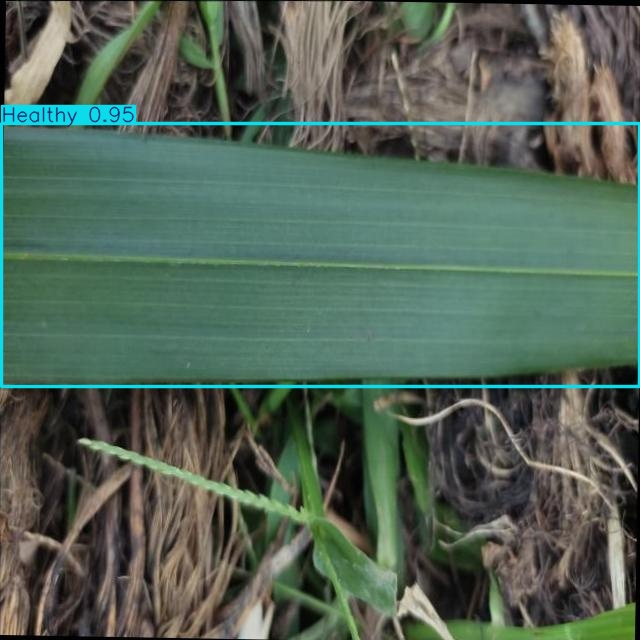Healthy: (1, 124, 640, 386)
